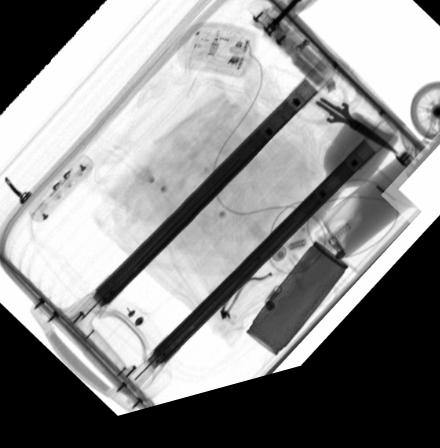Scissors: (290, 93, 401, 177)
